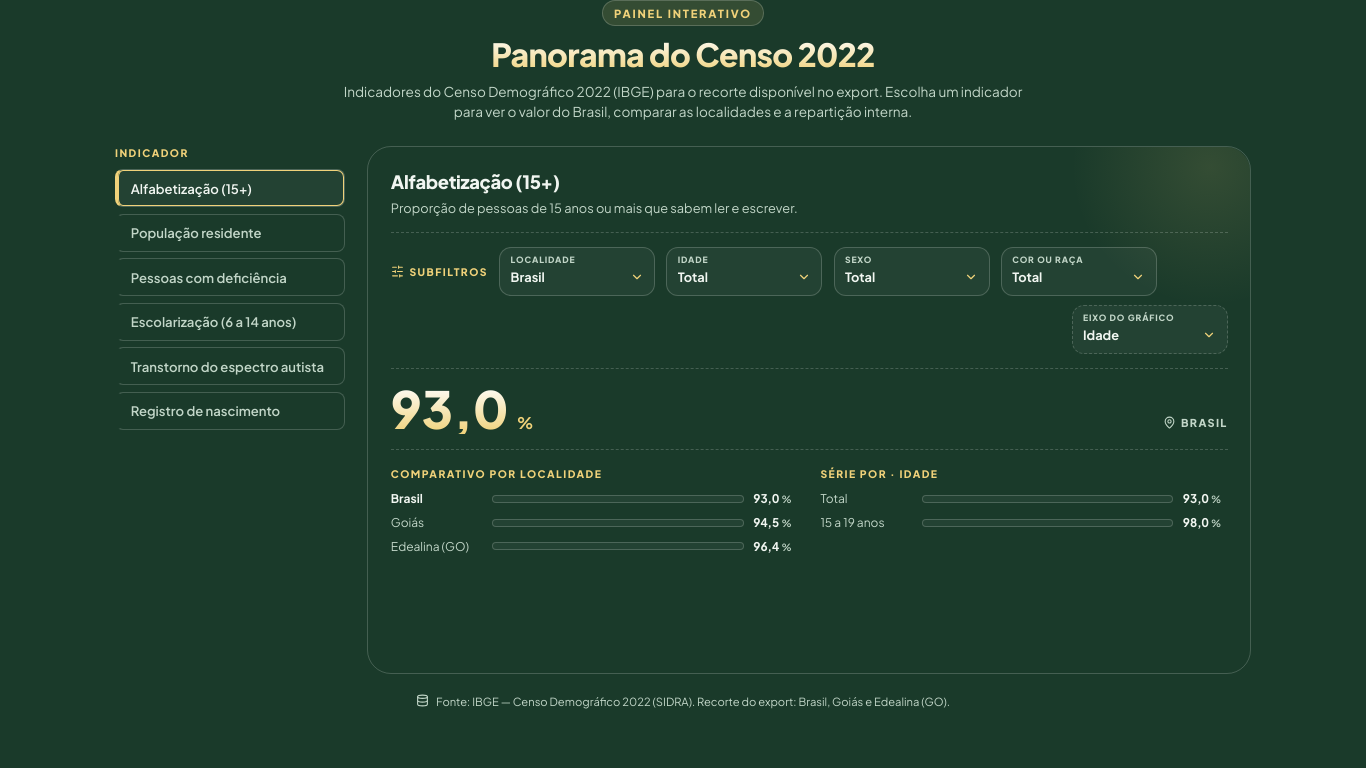
Dashboard — painel interativo › troca de indicador e passa a mostrar o novo valor
Click the button "População residente": (230, 233) [115,214,345,252]
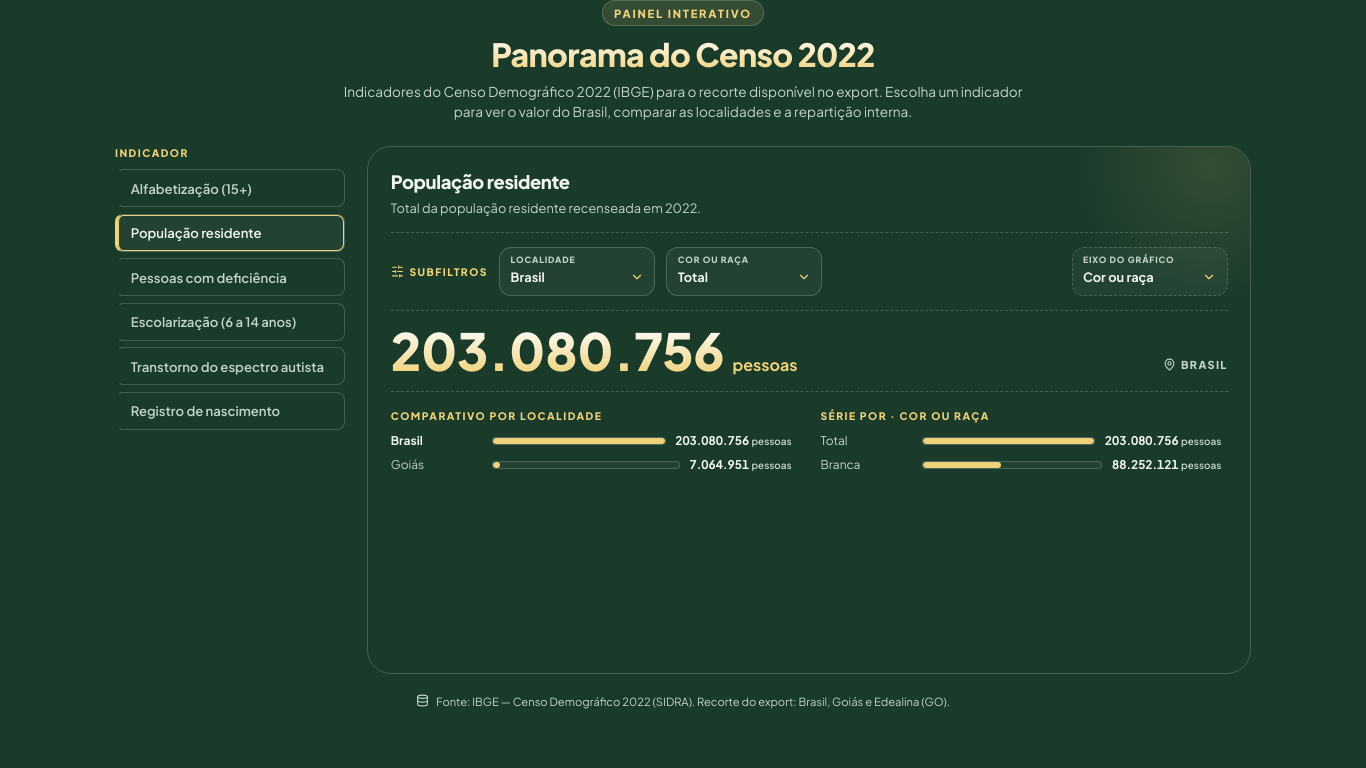
Now the heading "População residente" is shown, box [391,170,570,193]
